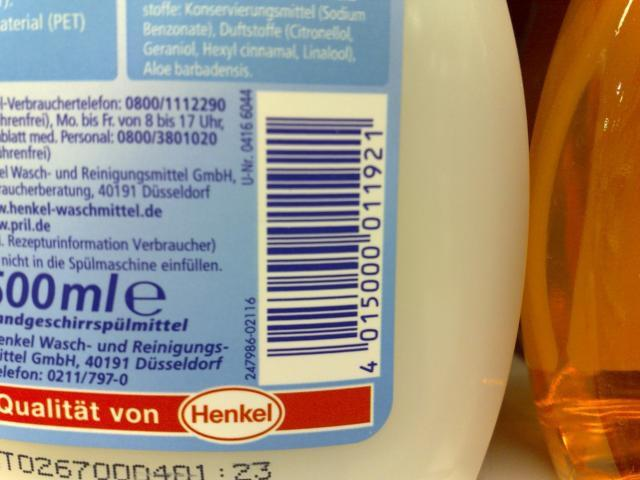Barcode: (257, 90, 388, 386)
